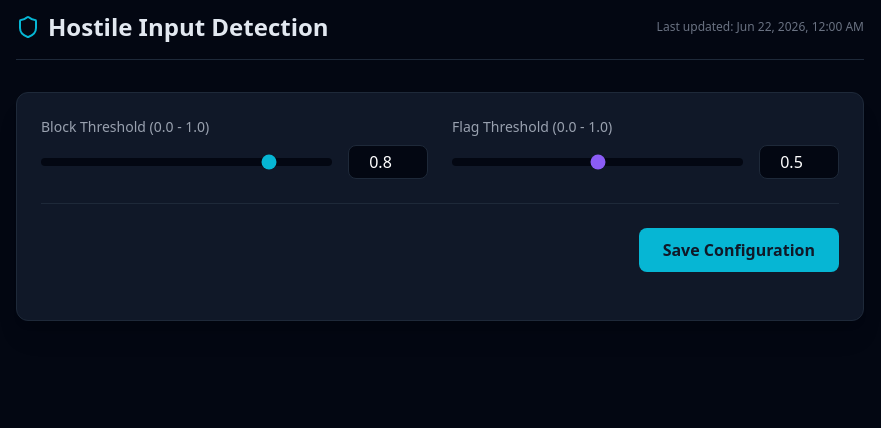
Test: detection form boundary (IS-GAP-040) › blocks NaN text bypass with zero mutation requests and announces the error
Replace the text in the number field named "block threshold" with "abc" at (388, 162), box [348, 145, 428, 179]
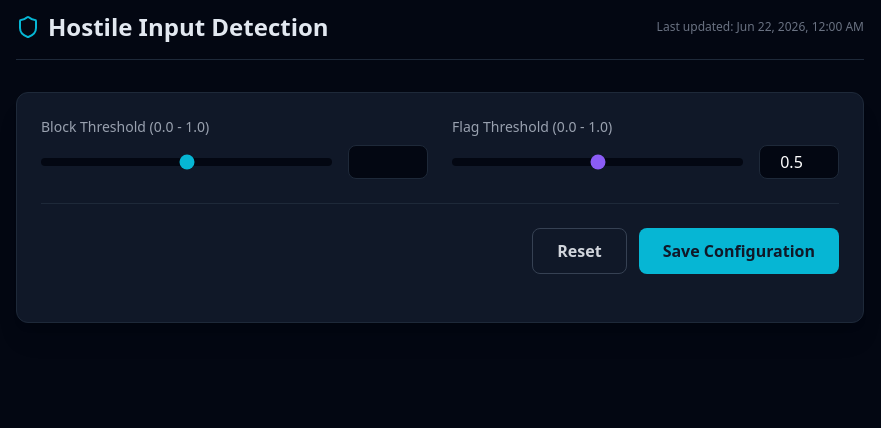
Submit the form "Block Threshold", box [16, 92, 864, 323]
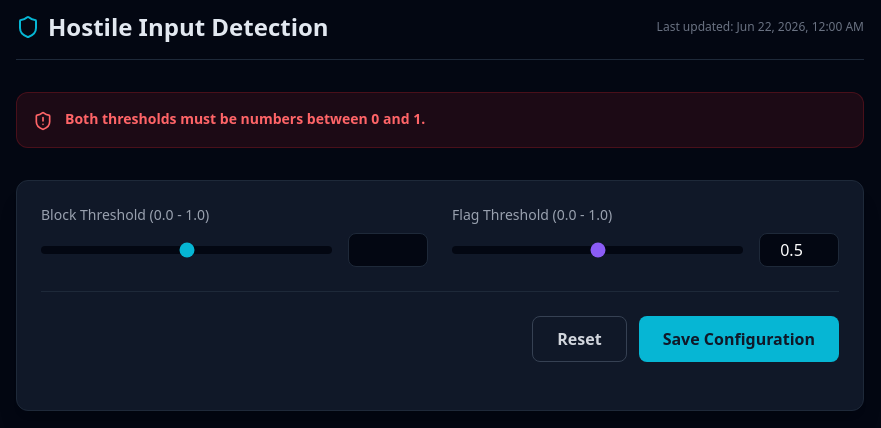
Check: the message shows "between 0 and 1", box [65, 109, 425, 128]
